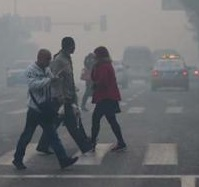person: (12, 46, 79, 169), (35, 36, 98, 155), (87, 45, 129, 154), (81, 49, 96, 113)
